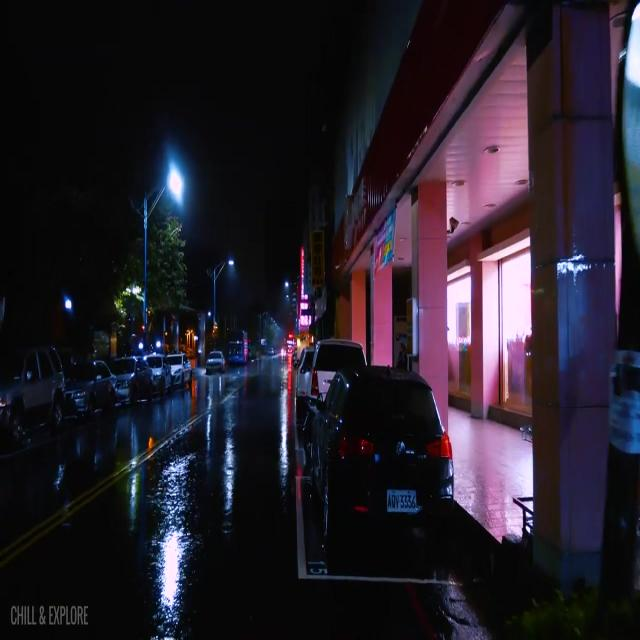Car: (309, 362, 453, 541), (5, 343, 67, 432), (65, 359, 116, 420), (114, 355, 151, 406), (146, 353, 165, 399), (165, 354, 192, 385), (202, 350, 225, 368)
